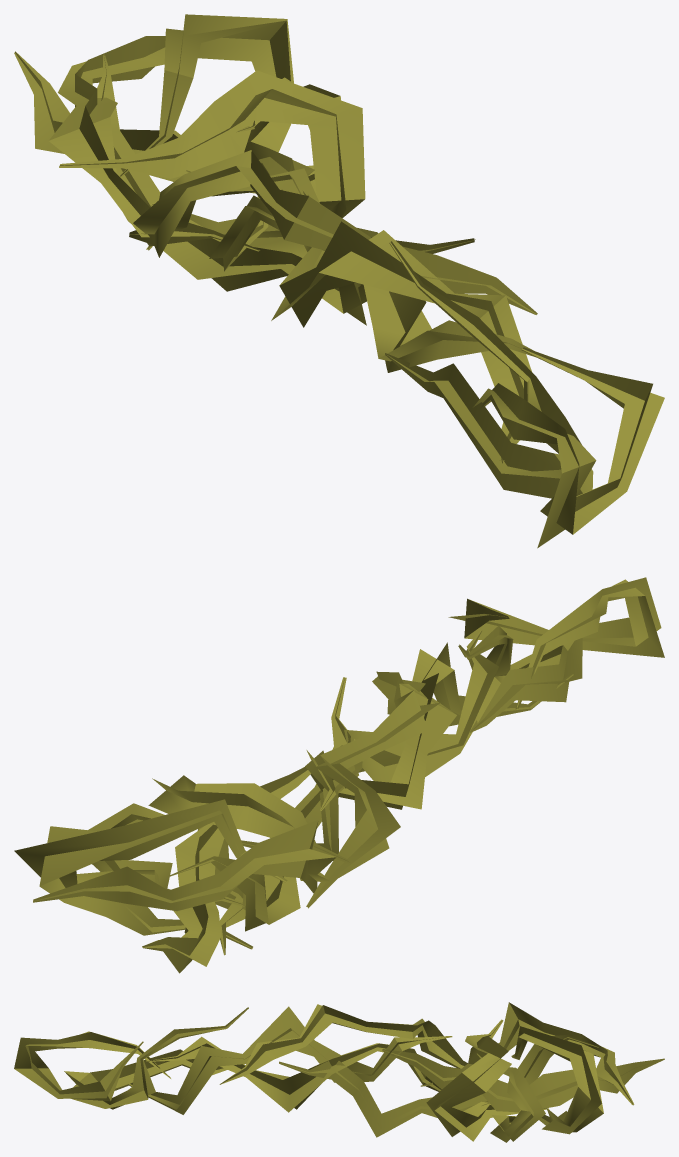
The model's file is etc_gargoyle_weapon_aura_wand_elec_eff.glb.
3 views of the same model, one above another, from view 1: azimuth 30°, elevation 25°; view 2: azimuth 150°, elevation 25°; view 3: azimuth 270°, elevation 25° (orthographic). The views are drawn at different scales.
Bounding box in the file's own units: 0.8726 × 0.5254 × 2.81.
